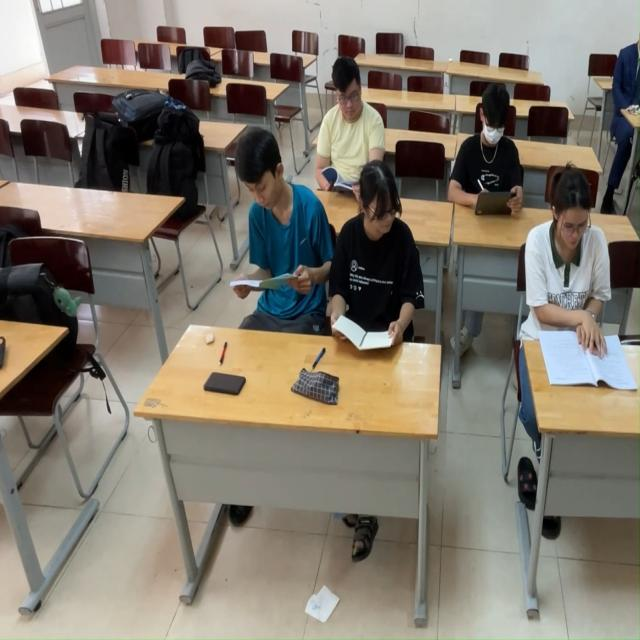read: (225, 128, 335, 334), (327, 159, 434, 365), (452, 79, 536, 224)
